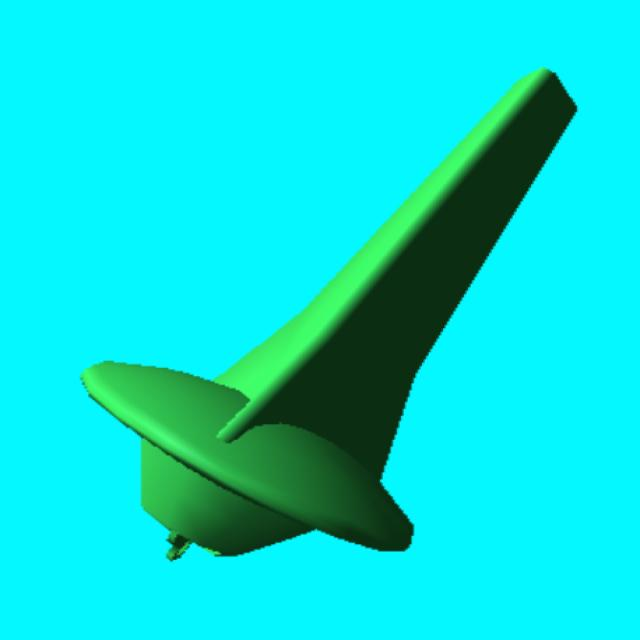GreenBuoy: (83, 70, 575, 558)
